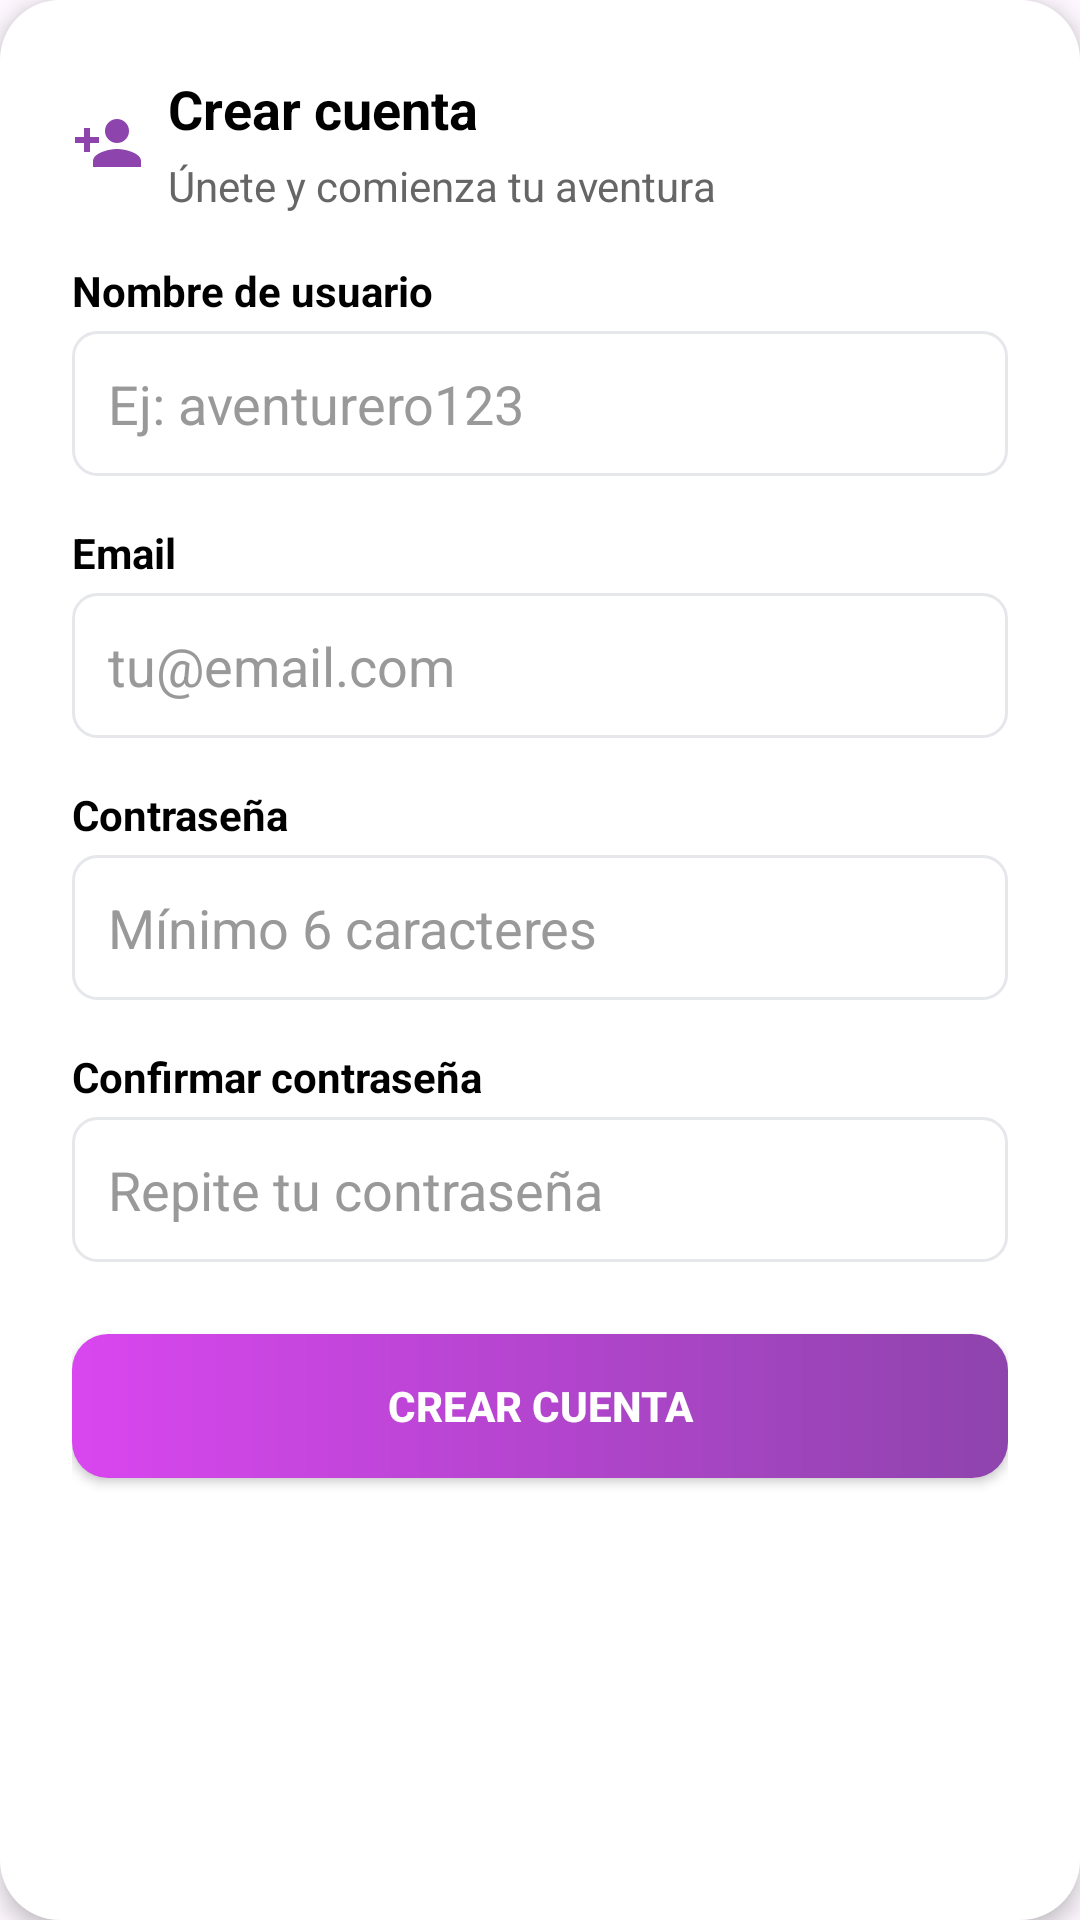

Screen size 1080 x 1920. Icon name, then its box in pixels as (left=x1, top=y1, right=x2, bottom=y2):
create account: (left=75, top=119, right=141, bottom=167)
